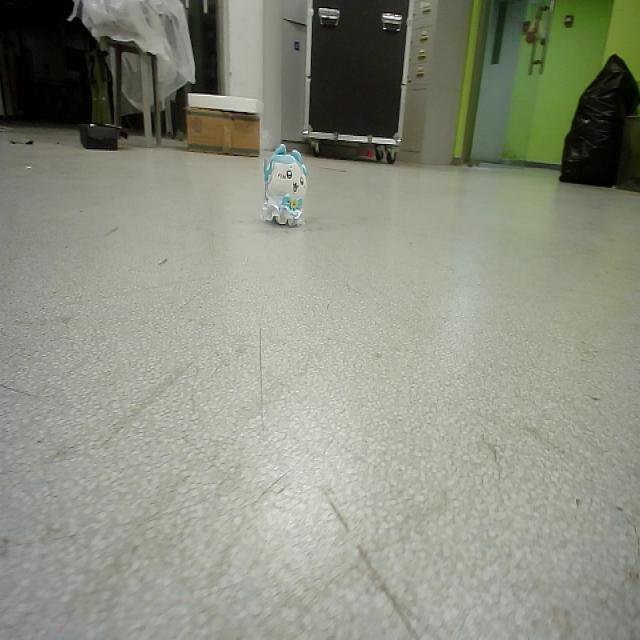xiaoba: (263, 142, 312, 228)
